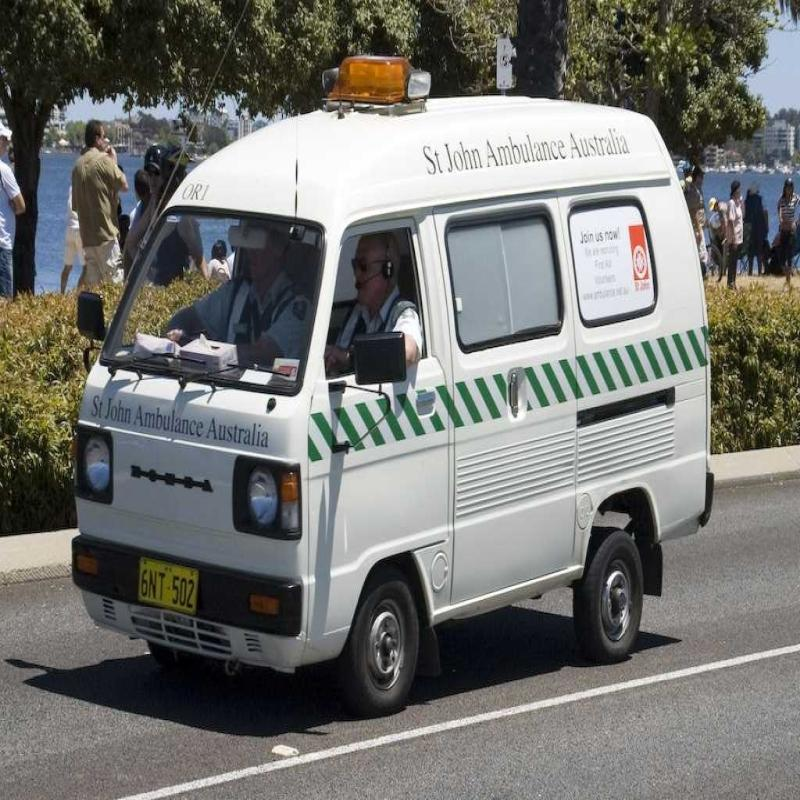AmbulanceSiren: (288, 18, 461, 161)
